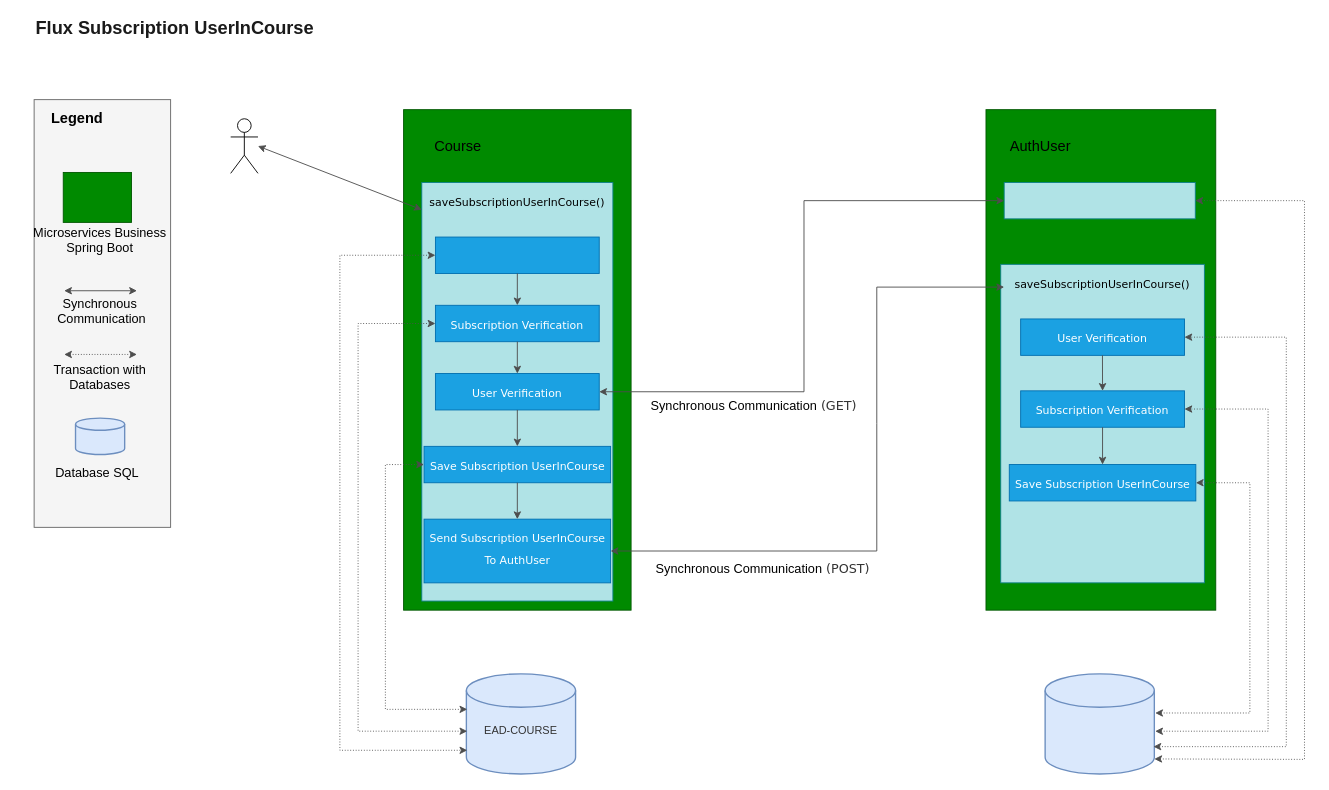
Some shapes in this 1329 by 790 pixel diagram are drawn without their labels. Here are the shapes that lost their labels. From the top down, the centre of each, then its label:
At (x=244, y=145): "Client".
At (x=1099, y=200): "getOneUserById()".
At (x=517, y=254): "Course Verication".
At (x=99, y=436): "DB".
At (x=1099, y=723): "EAD-AUTHUSER".
